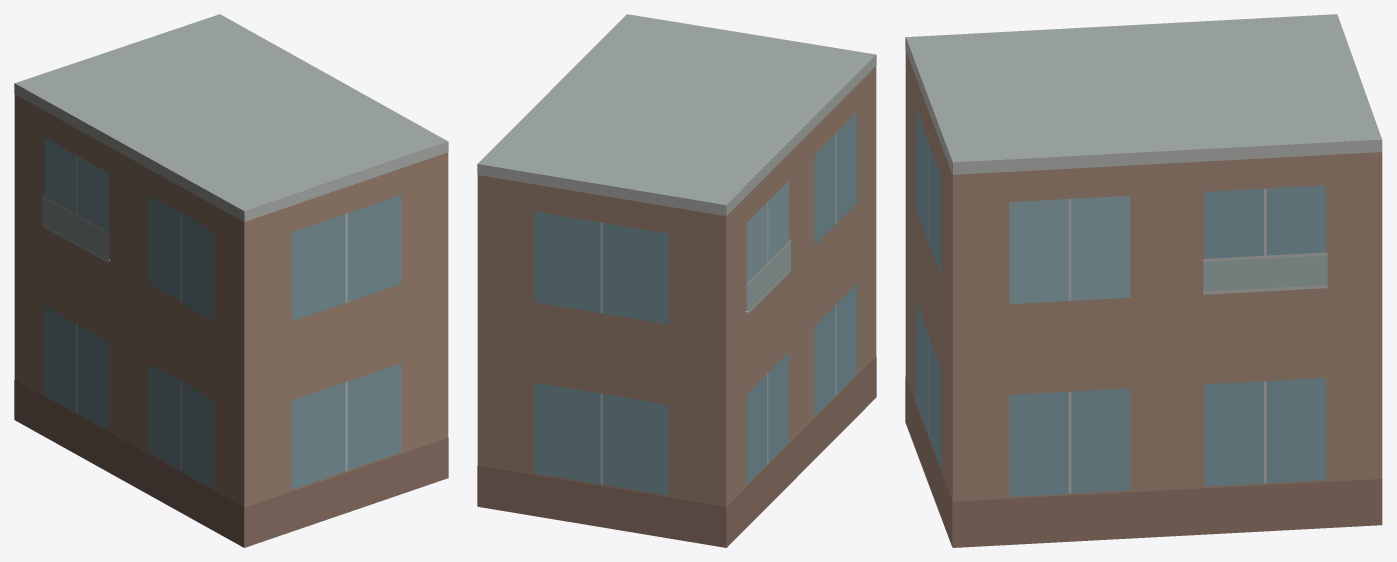
Rendered from survey-upis-32555508.glb.
3 renders of one model, left to right at view 1: azimuth 30°, elevation 25°; view 2: azimuth 150°, elevation 25°; view 3: azimuth 270°, elevation 25°, orthographic. The views are drawn at different scales.
Visible parts, largest first — view 1: survey-upis-32555508.tmp; view 2: survey-upis-32555508.tmp; view 3: survey-upis-32555508.tmp.
Part boxes in pixels (<box>): survey-upis-32555508.tmp: <box>14,14,448,547</box>; survey-upis-32555508.tmp: <box>477,14,876,547</box>; survey-upis-32555508.tmp: <box>905,14,1382,547</box>.
Bounding box in the file's own units: 6.29 × 7.6 × 8.53.
